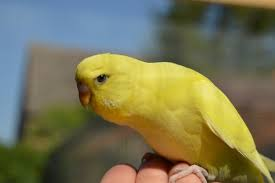budgie: (72, 53, 275, 178)
